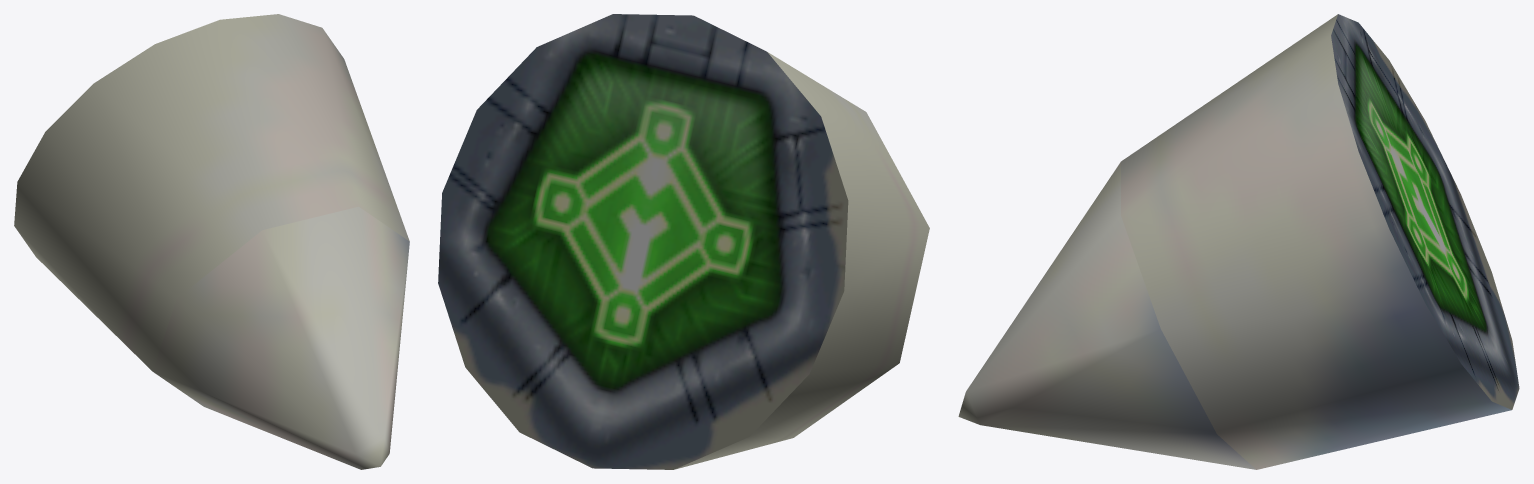
Rendered from icon.ico.obj.
3 renders of one model, left to right at view 1: azimuth 30°, elevation 25°; view 2: azimuth 150°, elevation 25°; view 3: azimuth 270°, elevation 25°, orthographic. The views are drawn at different scales.
Bounding box in the file's own units: 3.47 × 3.6 × 4.5.
